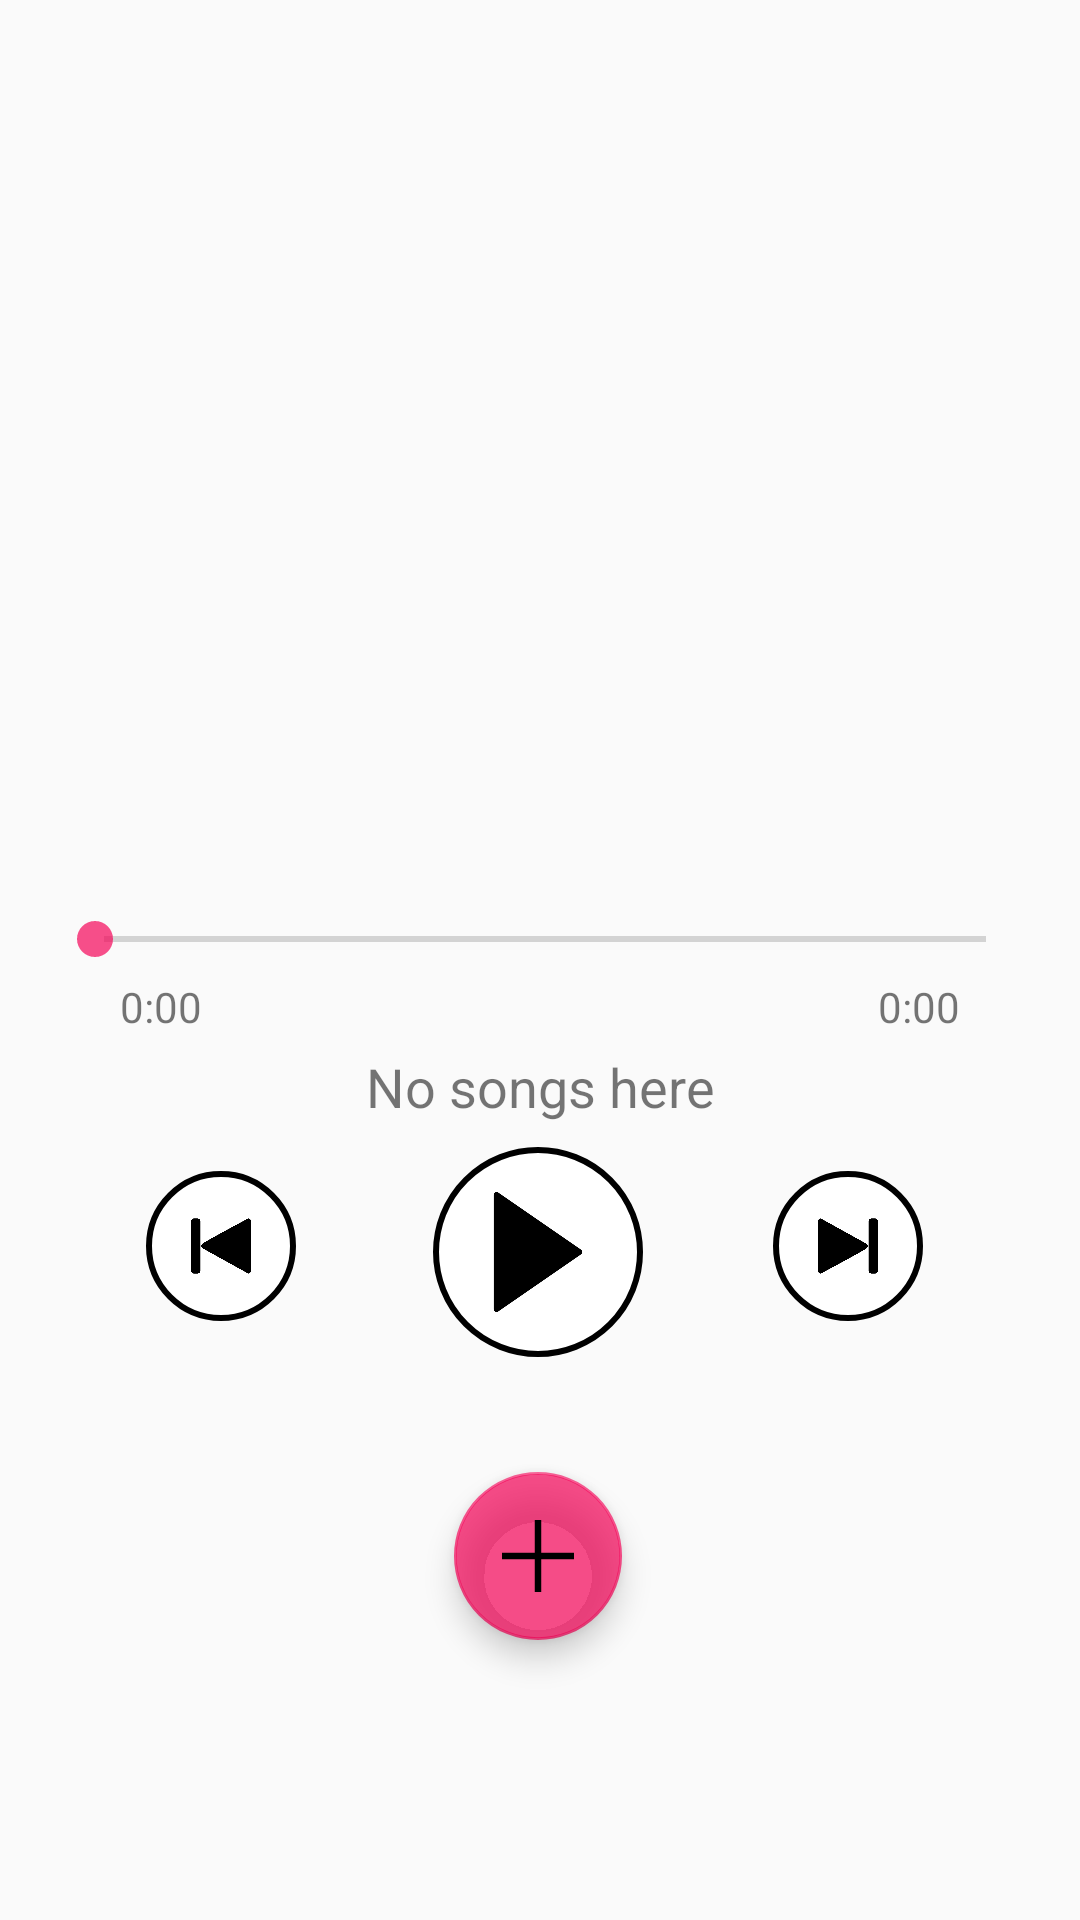

Named icons in this screenshot (1080px×1920px) and their bounding boxes, (x1, y1, x2, y2):
add: (454, 1472, 622, 1640)
next track: (773, 1171, 923, 1321)
play: (433, 1147, 643, 1357)
previous track: (146, 1171, 296, 1321)
